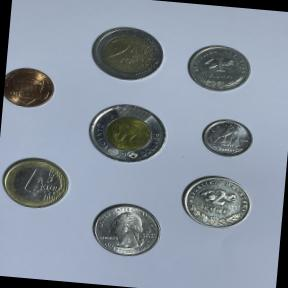coin: (82, 98, 173, 170), (84, 20, 172, 92), (86, 198, 169, 264), (175, 170, 258, 236), (0, 151, 74, 217), (196, 114, 258, 164), (3, 64, 60, 115)
